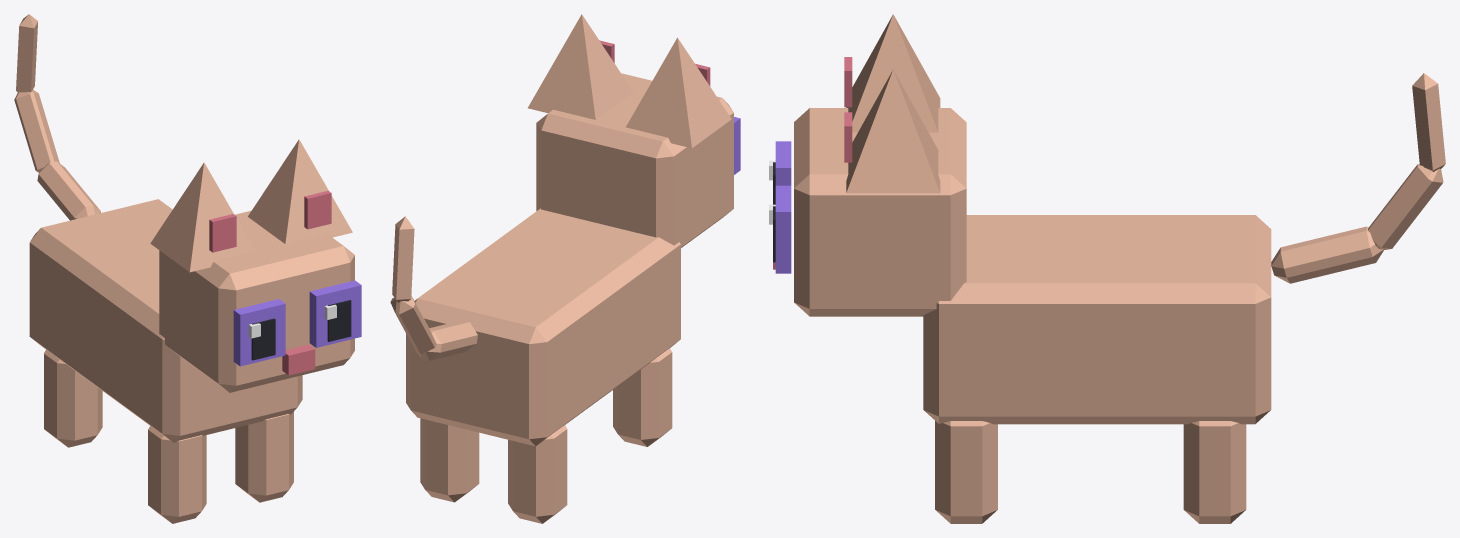
File: CatCafe_Cat_Sphynx.glb
The picture shows the model from 3 angles, left to right: view 1: azimuth 30°, elevation 25°; view 2: azimuth 150°, elevation 25°; view 3: azimuth 270°, elevation 25°; orthographic projection. The views are drawn at different scales.
Visible parts, largest first — view 1: CatCafe_Cat_Sphynx_Body, CatCafe_Cat_Sphynx_Head, CatCafe_Cat_Sphynx_Tail; view 2: CatCafe_Cat_Sphynx_Body, CatCafe_Cat_Sphynx_Head, CatCafe_Cat_Sphynx_Tail; view 3: CatCafe_Cat_Sphynx_Body, CatCafe_Cat_Sphynx_Head, CatCafe_Cat_Sphynx_Tail.
Boxes of the visible parts, bbox=[...] form: CatCafe_Cat_Sphynx_Body: bbox=[29, 199, 302, 523]; CatCafe_Cat_Sphynx_Head: bbox=[150, 139, 361, 392]; CatCafe_Cat_Sphynx_Tail: bbox=[14, 14, 100, 220]; CatCafe_Cat_Sphynx_Body: bbox=[406, 208, 680, 523]; CatCafe_Cat_Sphynx_Head: bbox=[528, 14, 740, 247]; CatCafe_Cat_Sphynx_Tail: bbox=[390, 216, 477, 360]; CatCafe_Cat_Sphynx_Body: bbox=[923, 215, 1271, 523]; CatCafe_Cat_Sphynx_Head: bbox=[769, 14, 966, 316]; CatCafe_Cat_Sphynx_Tail: bbox=[1271, 73, 1445, 283].
Size of the model in its own units: 0.86 by 1.9 by 2.59.
Materials: 1 (1 with a texture image).
